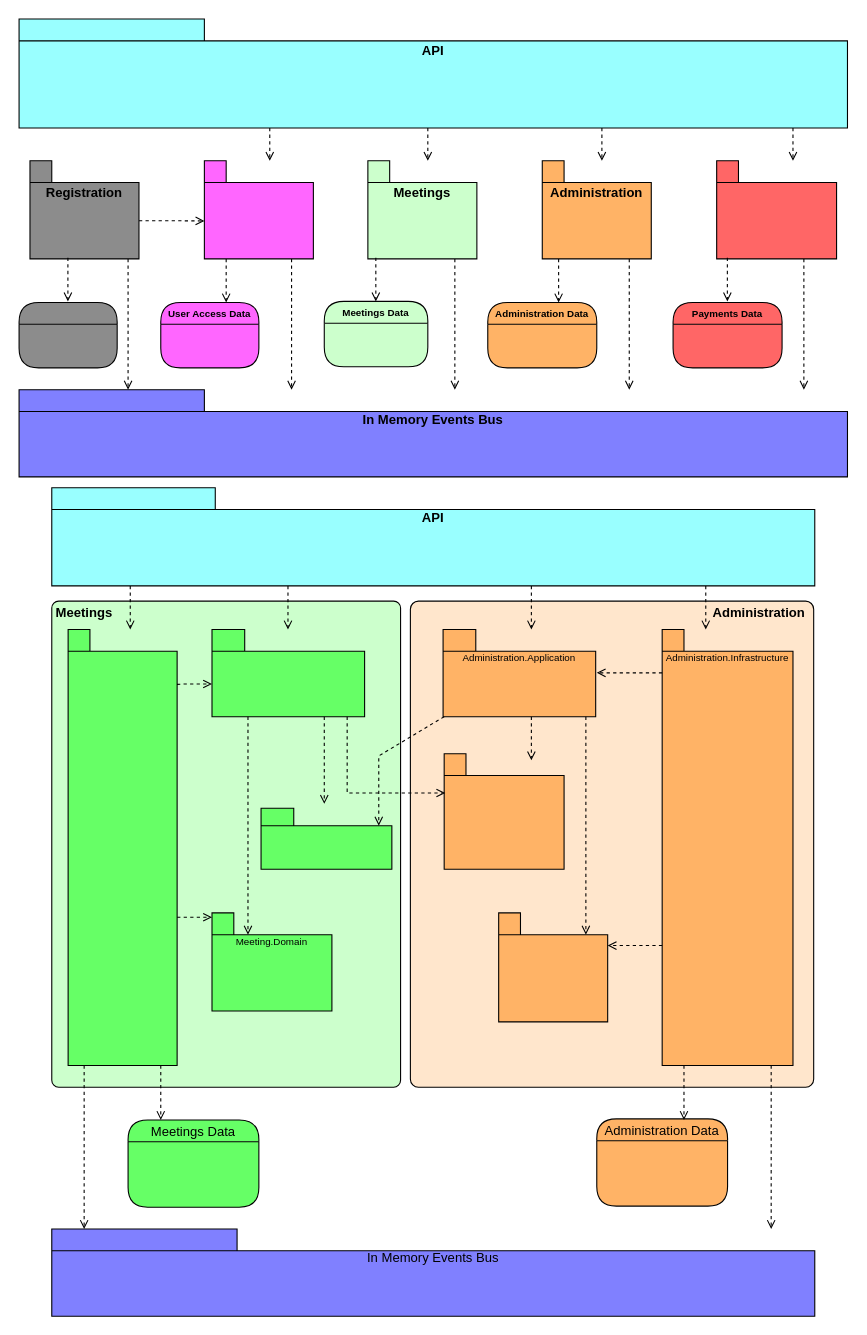
Image size: 867x1335. Some labels were removed from this diagram. The shapes that lost their labels are listed below. From the top down, each one's centre as x and y in pixels, then its label:
At point 258,209: "User Access".
At point 776,209: "Payments".
At point 67,334: "Registrations Data".
At point 288,672: "Meeting.Application".
At point 503,811: "Administration.Intergration Events".
At point 122,846: "Meeting.Infrastructure".
At point 326,838: "Meeting.IntergrationEvents".
At point 553,967: "Administration.Domain".
